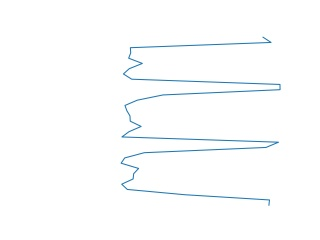majorRiverChannelBar: (119, 37, 283, 206)
